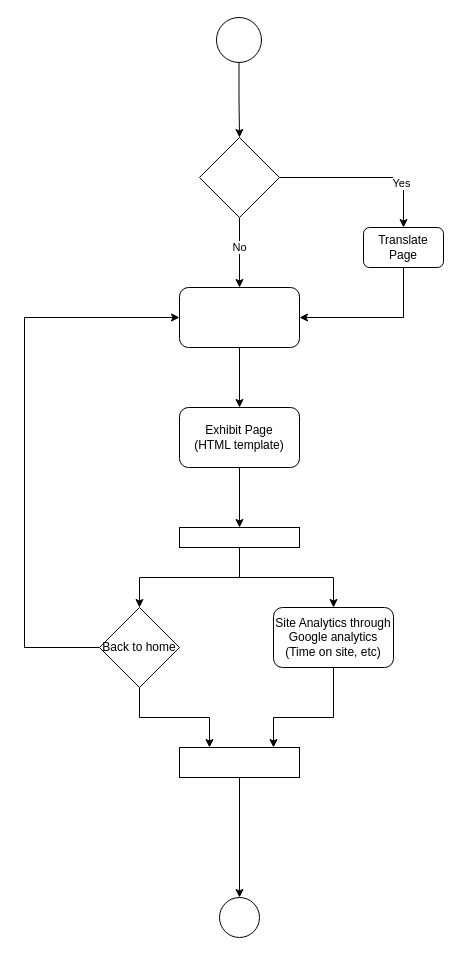
This 461x955 diagram has some shape labels left out. The shapes that lost their labels are listed below. From the top down, each one's box as (x1, y1, x2, y2) in pixels, then its label:
(198, 136, 280, 218): Translate to Spanish
(178, 286, 300, 348): Home Page
